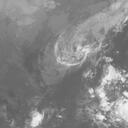cyclone: (51, 34, 87, 69)
